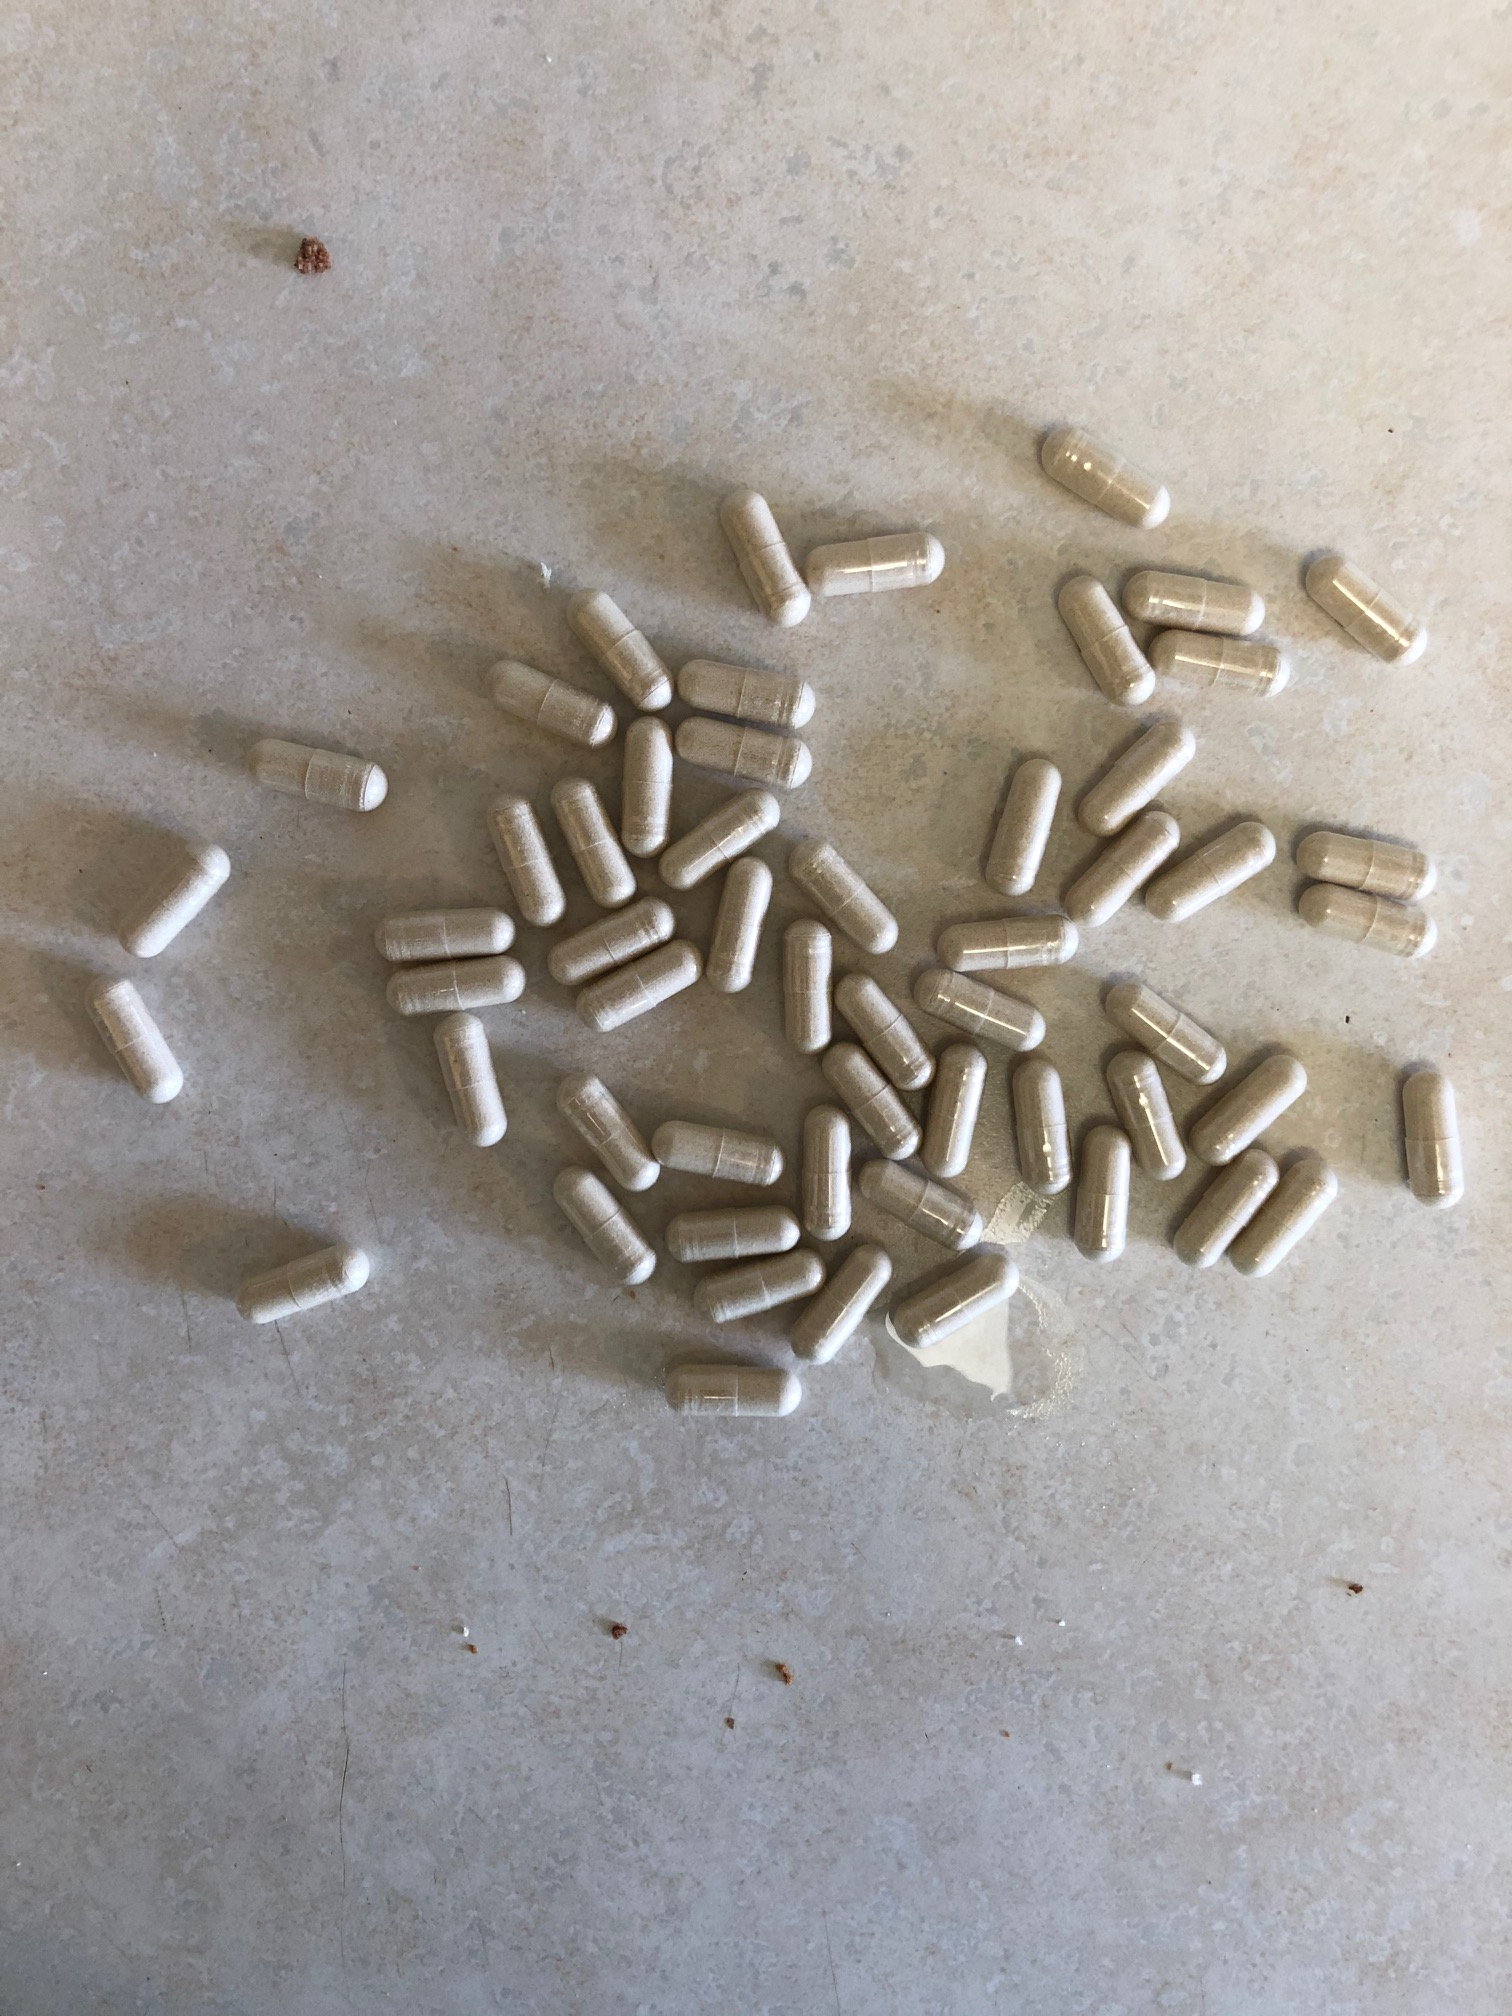capsule: (1298, 543, 1433, 673), (1074, 708, 1202, 843), (1186, 1040, 1313, 1173), (1032, 422, 1174, 538), (1097, 973, 1234, 1091), (546, 1157, 662, 1295), (707, 483, 812, 633), (781, 833, 904, 960), (823, 1033, 929, 1178), (546, 1065, 664, 1194), (1051, 573, 1163, 708), (559, 586, 677, 713), (1221, 1152, 1339, 1279), (1144, 810, 1277, 921), (1164, 1145, 1283, 1268), (654, 787, 789, 894), (83, 973, 187, 1110), (788, 1240, 897, 1368), (886, 1243, 1020, 1348), (118, 843, 232, 964), (827, 970, 939, 1094), (572, 933, 707, 1035), (802, 521, 950, 613), (854, 1156, 994, 1252), (1067, 808, 1182, 925), (476, 659, 619, 752), (545, 894, 681, 991), (662, 713, 824, 794), (913, 960, 1048, 1057), (977, 756, 1064, 903), (1120, 560, 1274, 643), (1387, 1060, 1469, 1213), (545, 773, 637, 910), (1102, 1043, 1190, 1186), (481, 787, 569, 929), (1290, 825, 1442, 905), (1291, 879, 1442, 959), (232, 1243, 373, 1325), (429, 1008, 508, 1152), (376, 952, 532, 1025), (245, 738, 392, 814), (692, 1248, 829, 1329), (672, 656, 820, 730), (1144, 629, 1290, 703), (920, 1035, 993, 1183), (704, 856, 778, 998), (1007, 1052, 1078, 1198), (611, 713, 681, 860), (653, 1113, 788, 1186), (1072, 1122, 1134, 1275), (372, 903, 523, 965), (772, 914, 837, 1057), (659, 1360, 808, 1422), (797, 1110, 862, 1245), (659, 1203, 804, 1264), (932, 914, 1085, 970)
